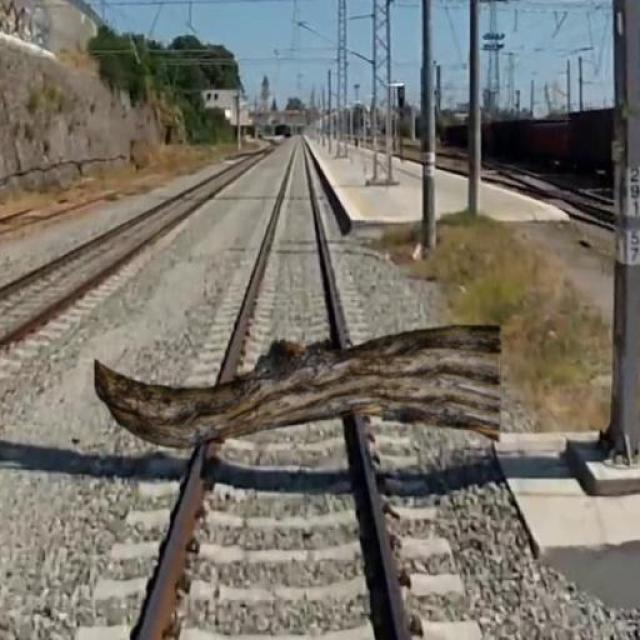Branches: (80, 318, 509, 456)
